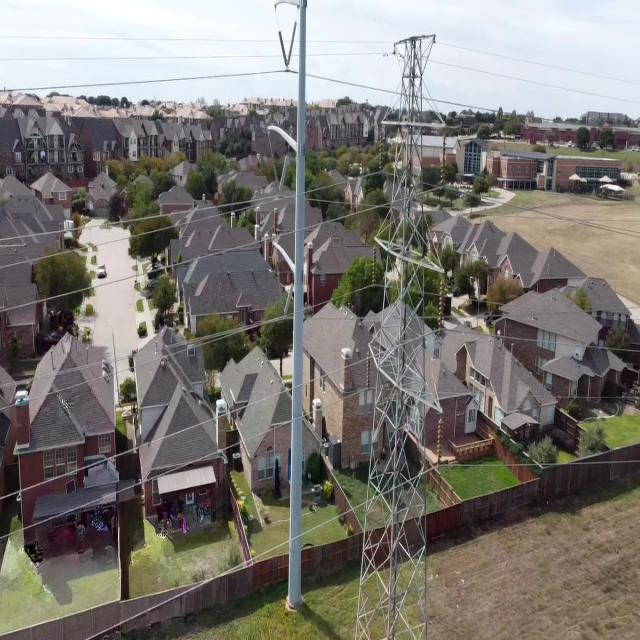杆塔: (343, 26, 441, 640)
正常电缆: (78, 461, 438, 640), (0, 384, 368, 545), (0, 352, 367, 506), (2, 195, 393, 319), (0, 68, 287, 93), (442, 454, 640, 470)
正常绝缘子: (433, 405, 445, 474), (440, 128, 450, 202), (277, 29, 291, 72), (375, 117, 385, 177), (436, 273, 446, 329), (369, 240, 379, 291), (365, 344, 372, 393)
